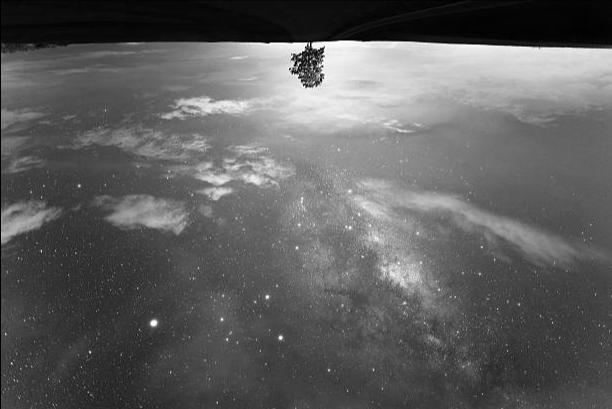Non_Gorille: (116, 20, 570, 398)
